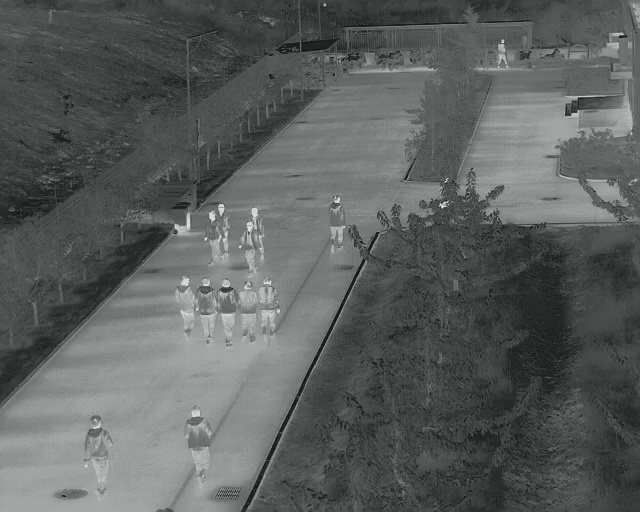person: (86, 414, 114, 500), (185, 406, 210, 484), (243, 209, 267, 275), (218, 278, 239, 347), (196, 276, 217, 343), (260, 276, 281, 342), (176, 275, 197, 337), (206, 202, 226, 265), (239, 280, 258, 342), (326, 197, 345, 254), (497, 37, 507, 69)
